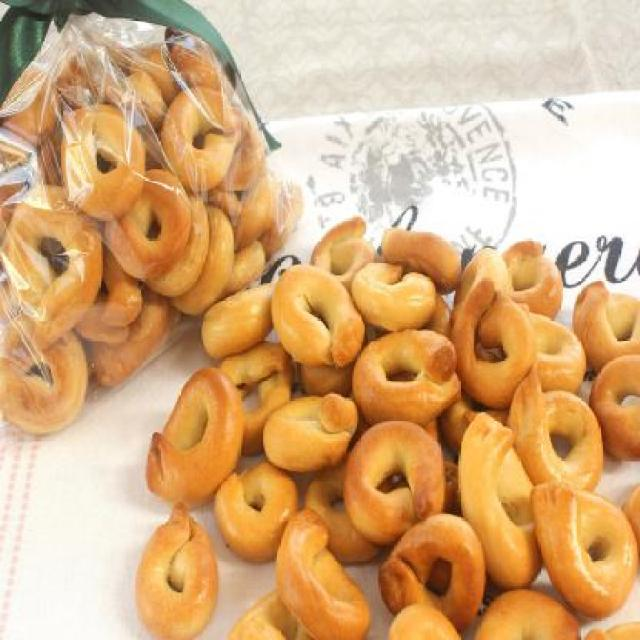Taralli: (124, 227, 633, 627)
